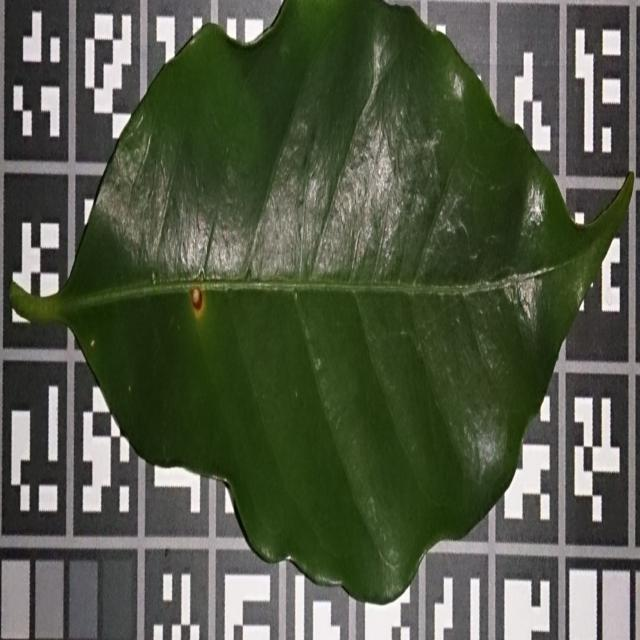Enfermedad-Mancha-de-hierro: (58, 3, 627, 609)
